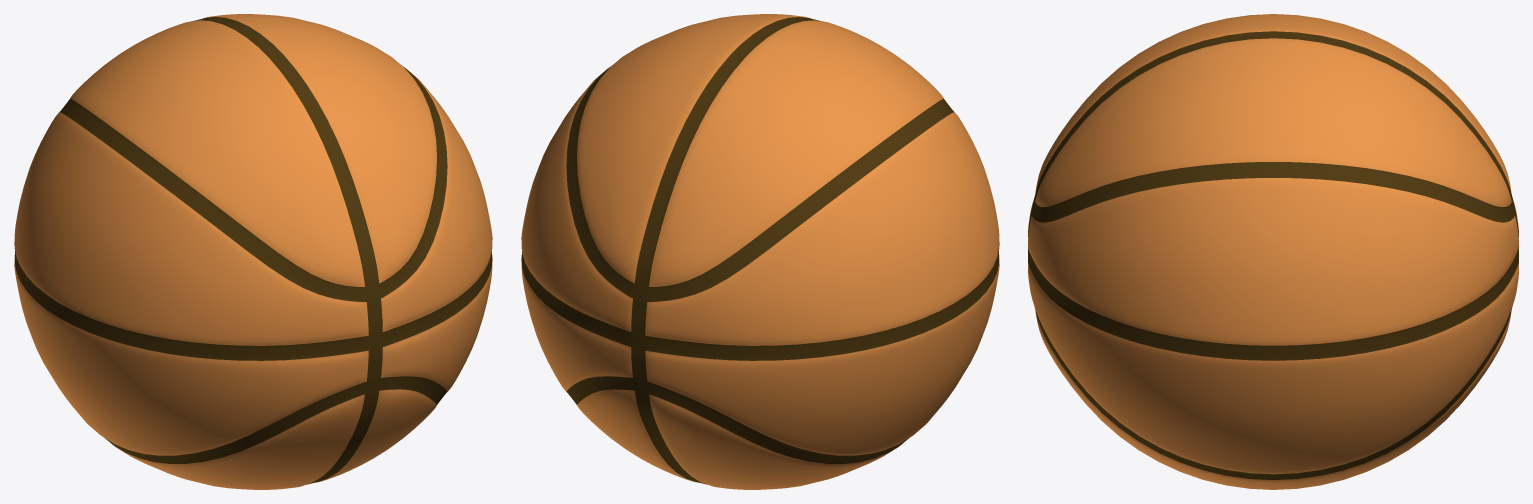
Rendered from ball.fbx.
The picture shows the model from 3 angles, left to right: view 1: azimuth 30°, elevation 25°; view 2: azimuth 150°, elevation 25°; view 3: azimuth 270°, elevation 25°; orthographic projection.
Visible parts, largest first — view 1: Sphere; view 2: Sphere; view 3: Sphere.
Part boxes in pixels (x1,y1,x2,y2): Sphere: (14,14,492,489); Sphere: (521,14,999,489); Sphere: (1028,14,1518,489).
Bounding box in the file's own units: 559 × 559 × 573.
